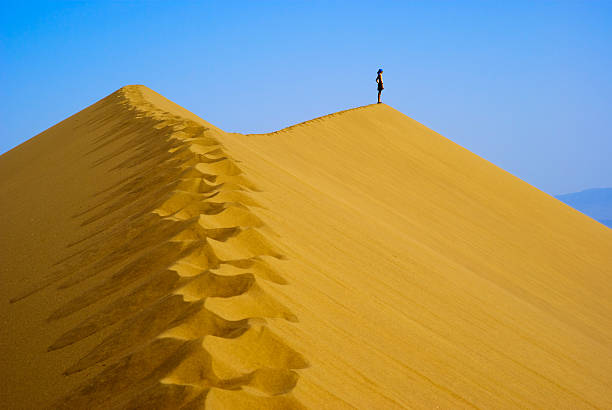human_footprint: (117, 84, 314, 409)
